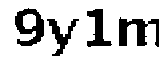1: (82, 6, 113, 49)
9: (11, 5, 46, 51)
m: (118, 16, 160, 48)
y: (47, 15, 80, 60)
